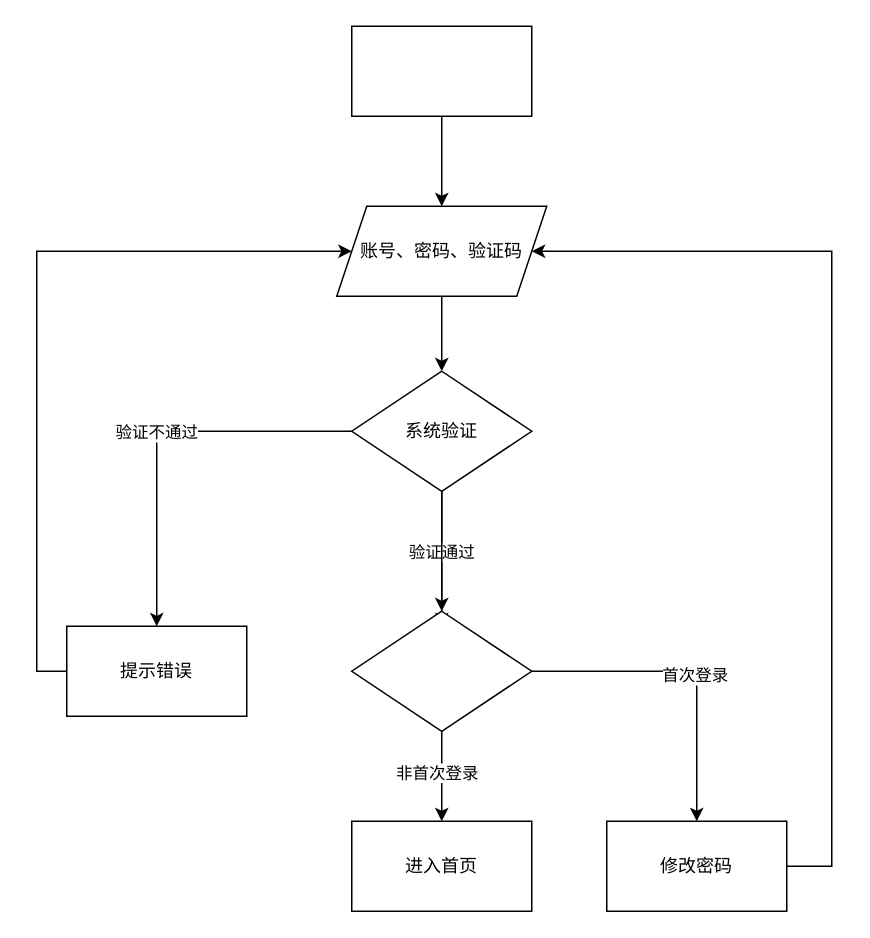
Image size: 870x938. Some labels were removed from this diagram. Each missing label, with the centre of its shape:
"打开登录页面" belongs at (x=441, y=70).
"是否首次登录" belongs at (x=441, y=670).
